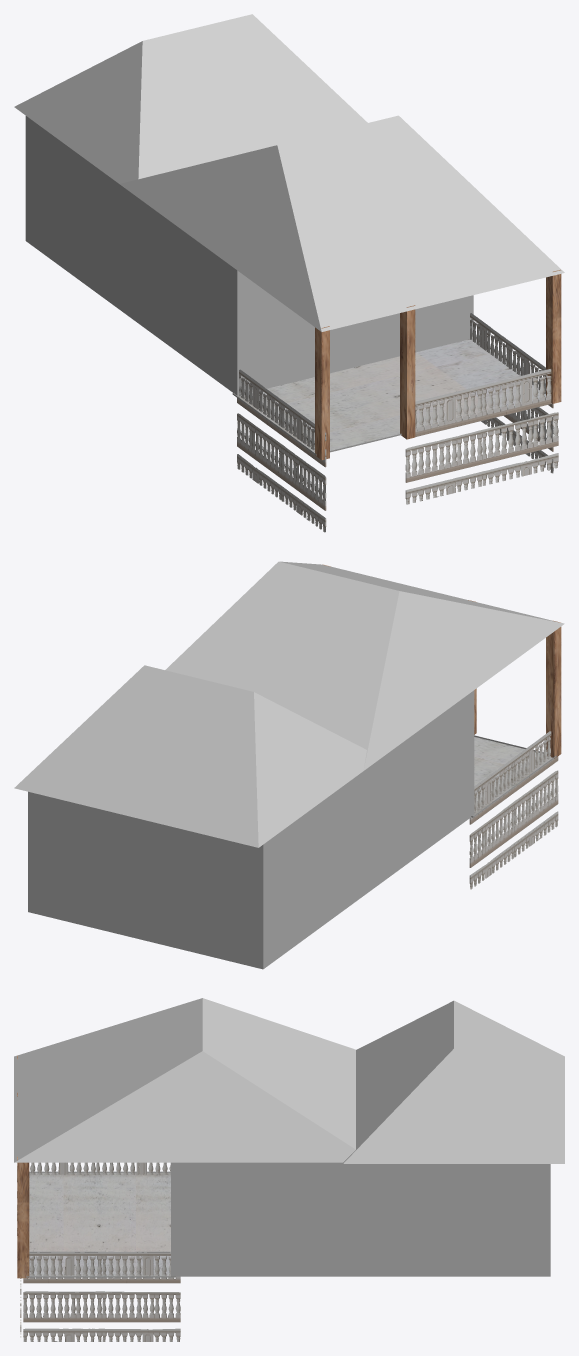
File: rumah betawi.fbx
The picture shows the model from 3 angles, top to bottom: view 1: azimuth 30°, elevation 25°; view 2: azimuth 150°, elevation 25°; view 3: azimuth 270°, elevation 25°; orthographic projection. The views are drawn at different scales.
Parts seen in each view (by area): view 1: Cube.002, Cube, Cube.001, Cube.006, pagar smen pngggg, pagar smen pngggg.002, pagar smen pngggg.001, Cube.005, Cube.004, Cube.003; view 2: Cube, Cube.002, Cube.001, pagar smen pngggg.002, Cube.006, Cube.003; view 3: Cube.002, Cube, Cube.001, Cube.006, pagar smen pngggg.001, Cube.004, pagar smen pngggg.002.
Part boxes in pixels (x1,y1,x2,y2): Cube.002: (119,115,564,331); Cube: (25,116,473,395); Cube.001: (14,14,367,183); Cube.006: (232,337,545,455); pagar smen pngggg: (405,369,558,504); pagar smen pngggg.002: (237,369,326,532); pagar smen pngggg.001: (470,313,553,473); Cube.005: (400,305,415,439); Cube.004: (546,269,561,403); Cube.003: (315,326,329,460); Cube: (28,690,474,969); Cube.002: (165,561,564,770); Cube.001: (14,665,366,847); pagar smen pngggg.002: (469,731,558,889); Cube.006: (471,735,556,817); Cube.003: (546,620,561,758); Cube.002: (14,998,355,1162); Cube: (171,1162,550,1276); Cube.001: (343,1000,564,1163); Cube.006: (26,1171,175,1277); pagar smen pngggg.001: (23,1251,180,1341); Cube.004: (17,1156,29,1278); pagar smen pngggg.002: (17,1162,170,1235).
Size of the model in its own units: 808 by 937 by 1753.
